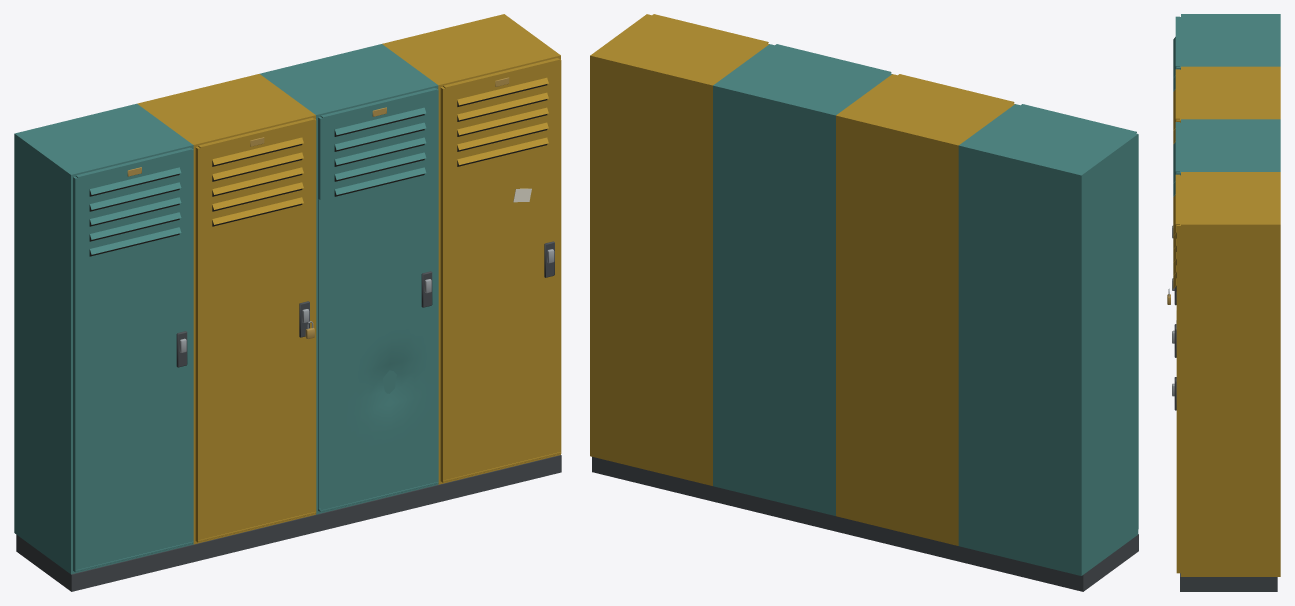
File: locker_bank.glb
3 views of the same model, side by side, from view 1: azimuth 30°, elevation 25°; view 2: azimuth 150°, elevation 25°; view 3: azimuth 270°, elevation 25° (orthographic). The views are drawn at different scales.
Visible parts, largest first — view 1: LockerBank; view 2: LockerBank; view 3: LockerBank.
Boxes of the visible parts, box(x1,y1,x2,y2) form: LockerBank: box(14, 14, 561, 591); LockerBank: box(590, 14, 1138, 591); LockerBank: box(1167, 14, 1280, 591).
Bounding box in the file's own units: 2.4 × 1.95 × 0.545.
